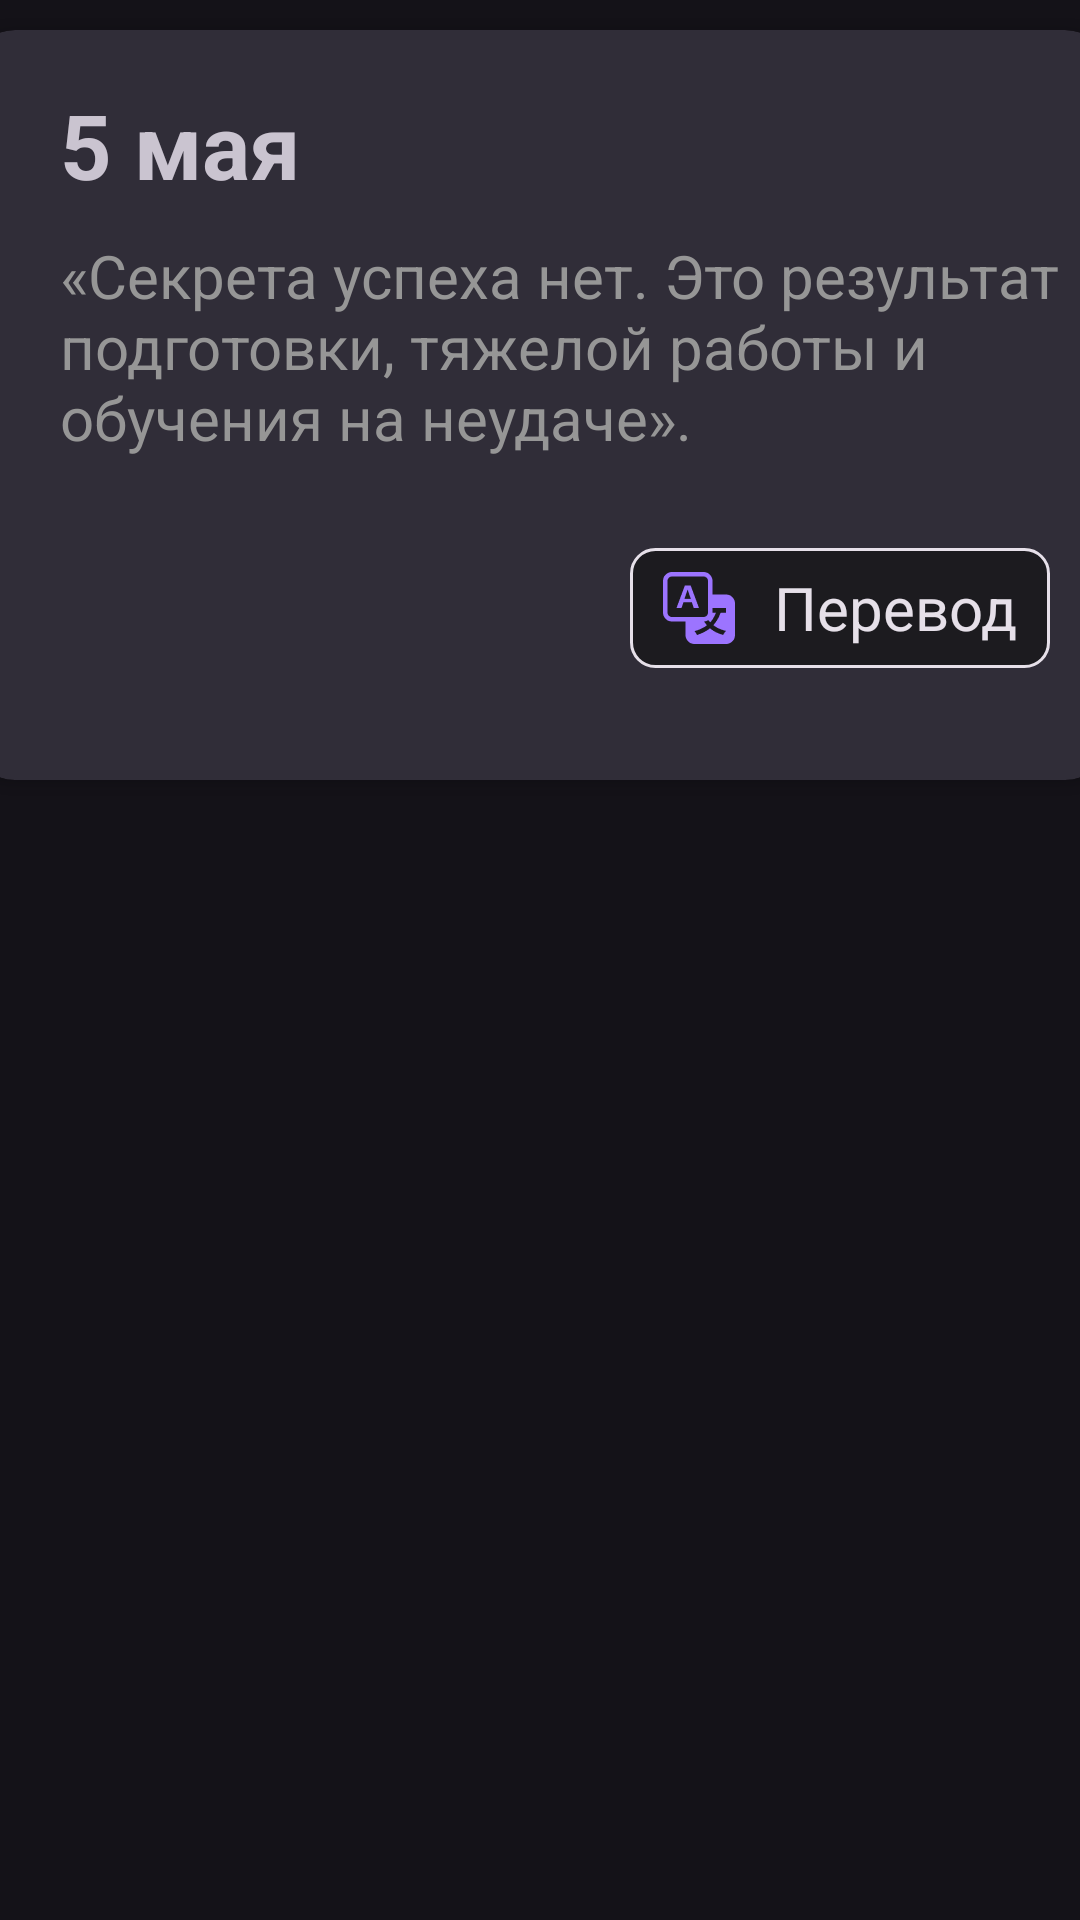

Point at icon controls on the screen. Image size 1080×1920, points as [x,y].
translate: [699,608]
